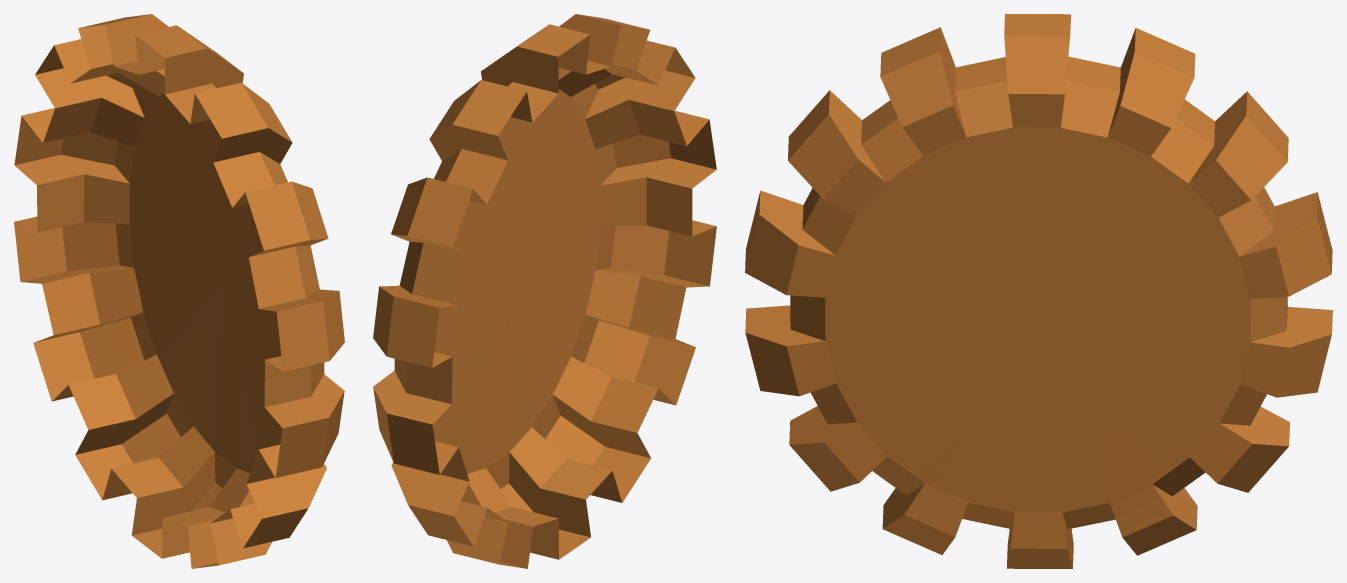
The model's file is SmallGear_Door.fbx.
The picture shows the model from 3 angles, left to right: view 1: azimuth 30°, elevation 25°; view 2: azimuth 150°, elevation 25°; view 3: azimuth 270°, elevation 25°; orthographic projection. The views are drawn at different scales.
Parts seen in each view (by area): view 1: SmallGear_Door; view 2: SmallGear_Door; view 3: SmallGear_Door.
Part boxes in pixels (x1,y1,x2,y2): SmallGear_Door: (14,14,344,568); SmallGear_Door: (373,14,716,568); SmallGear_Door: (745,14,1332,568).
Bounding box in the file's own units: 11.3 × 61.61 × 61.67.
